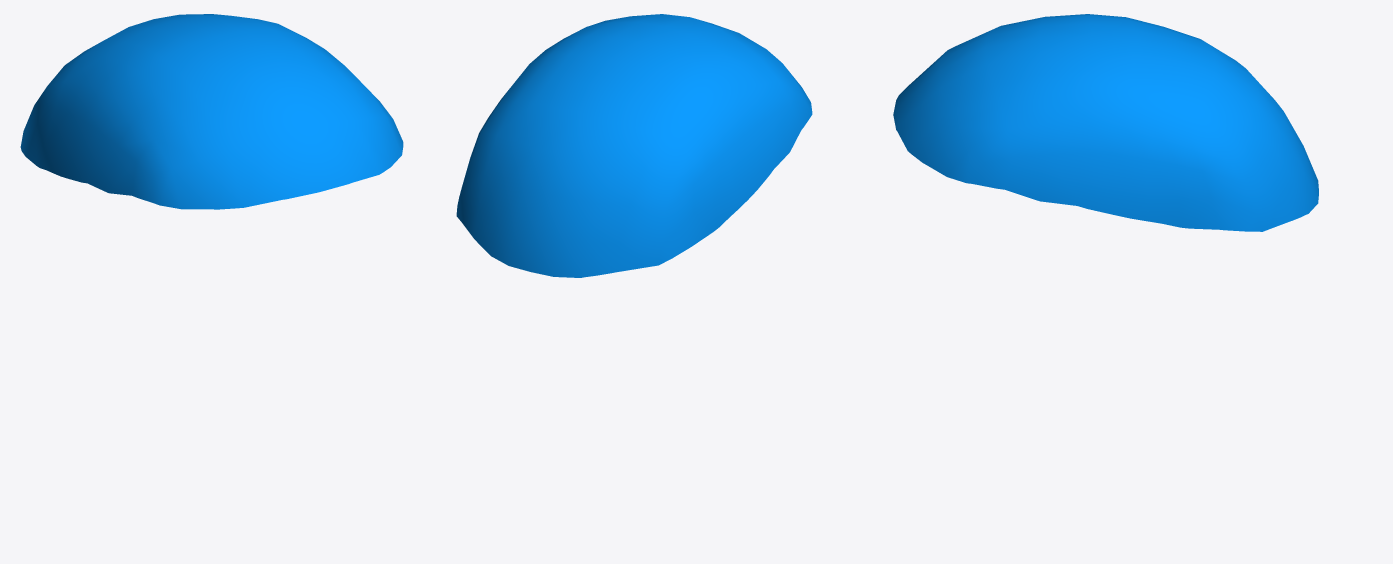
File: head.obj
3 renders of one model, left to right at view 1: azimuth 30°, elevation 25°; view 2: azimuth 150°, elevation 25°; view 3: azimuth 270°, elevation 25°, orthographic. The views are drawn at different scales.
Parts seen in each view (by area): view 1: head; view 2: head; view 3: head.
Boxes of the visible parts, x1=… form: head: x1=20, y1=14, x2=403, y2=209; head: x1=456, y1=14, x2=812, y2=277; head: x1=893, y1=14, x2=1318, y2=231.
Bounding box in the file's own units: 0.152 × 0.2296 × 0.2191.
Materials: 1 (1 with a texture image).
